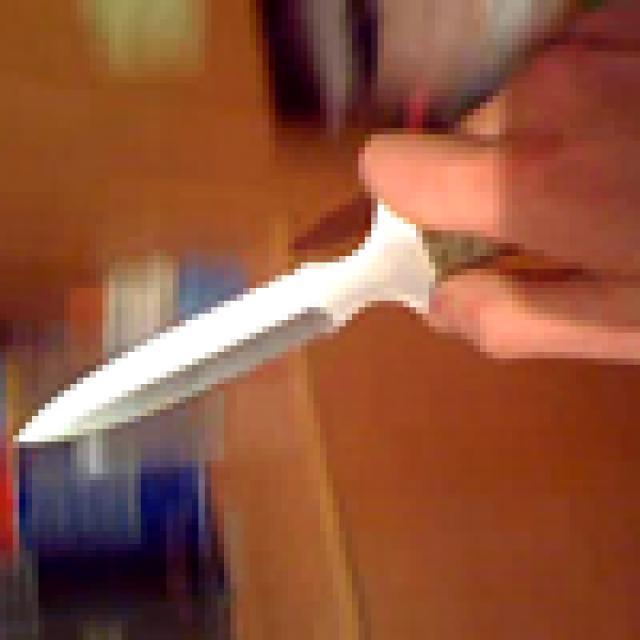Knife_Handle: (13, 35, 640, 445)
